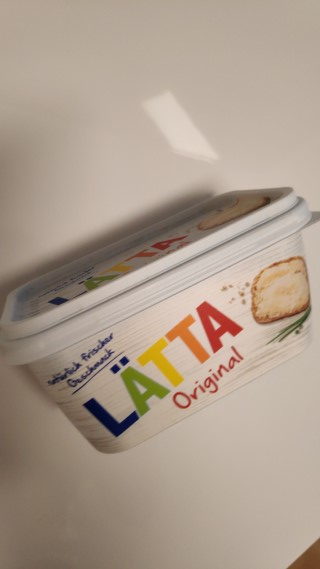laetta: (1, 183, 320, 455)
